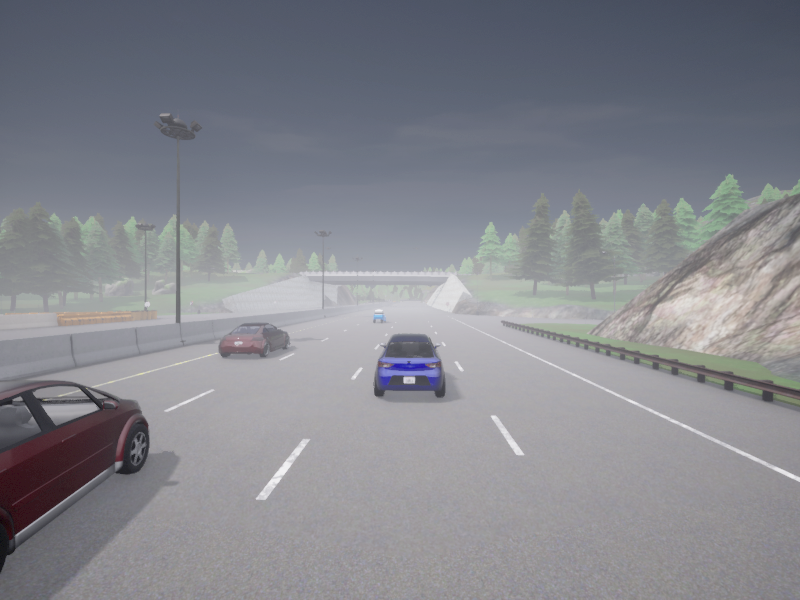vehicle: (0, 380, 149, 574), (374, 334, 444, 396), (218, 323, 289, 356), (373, 310, 385, 322)
